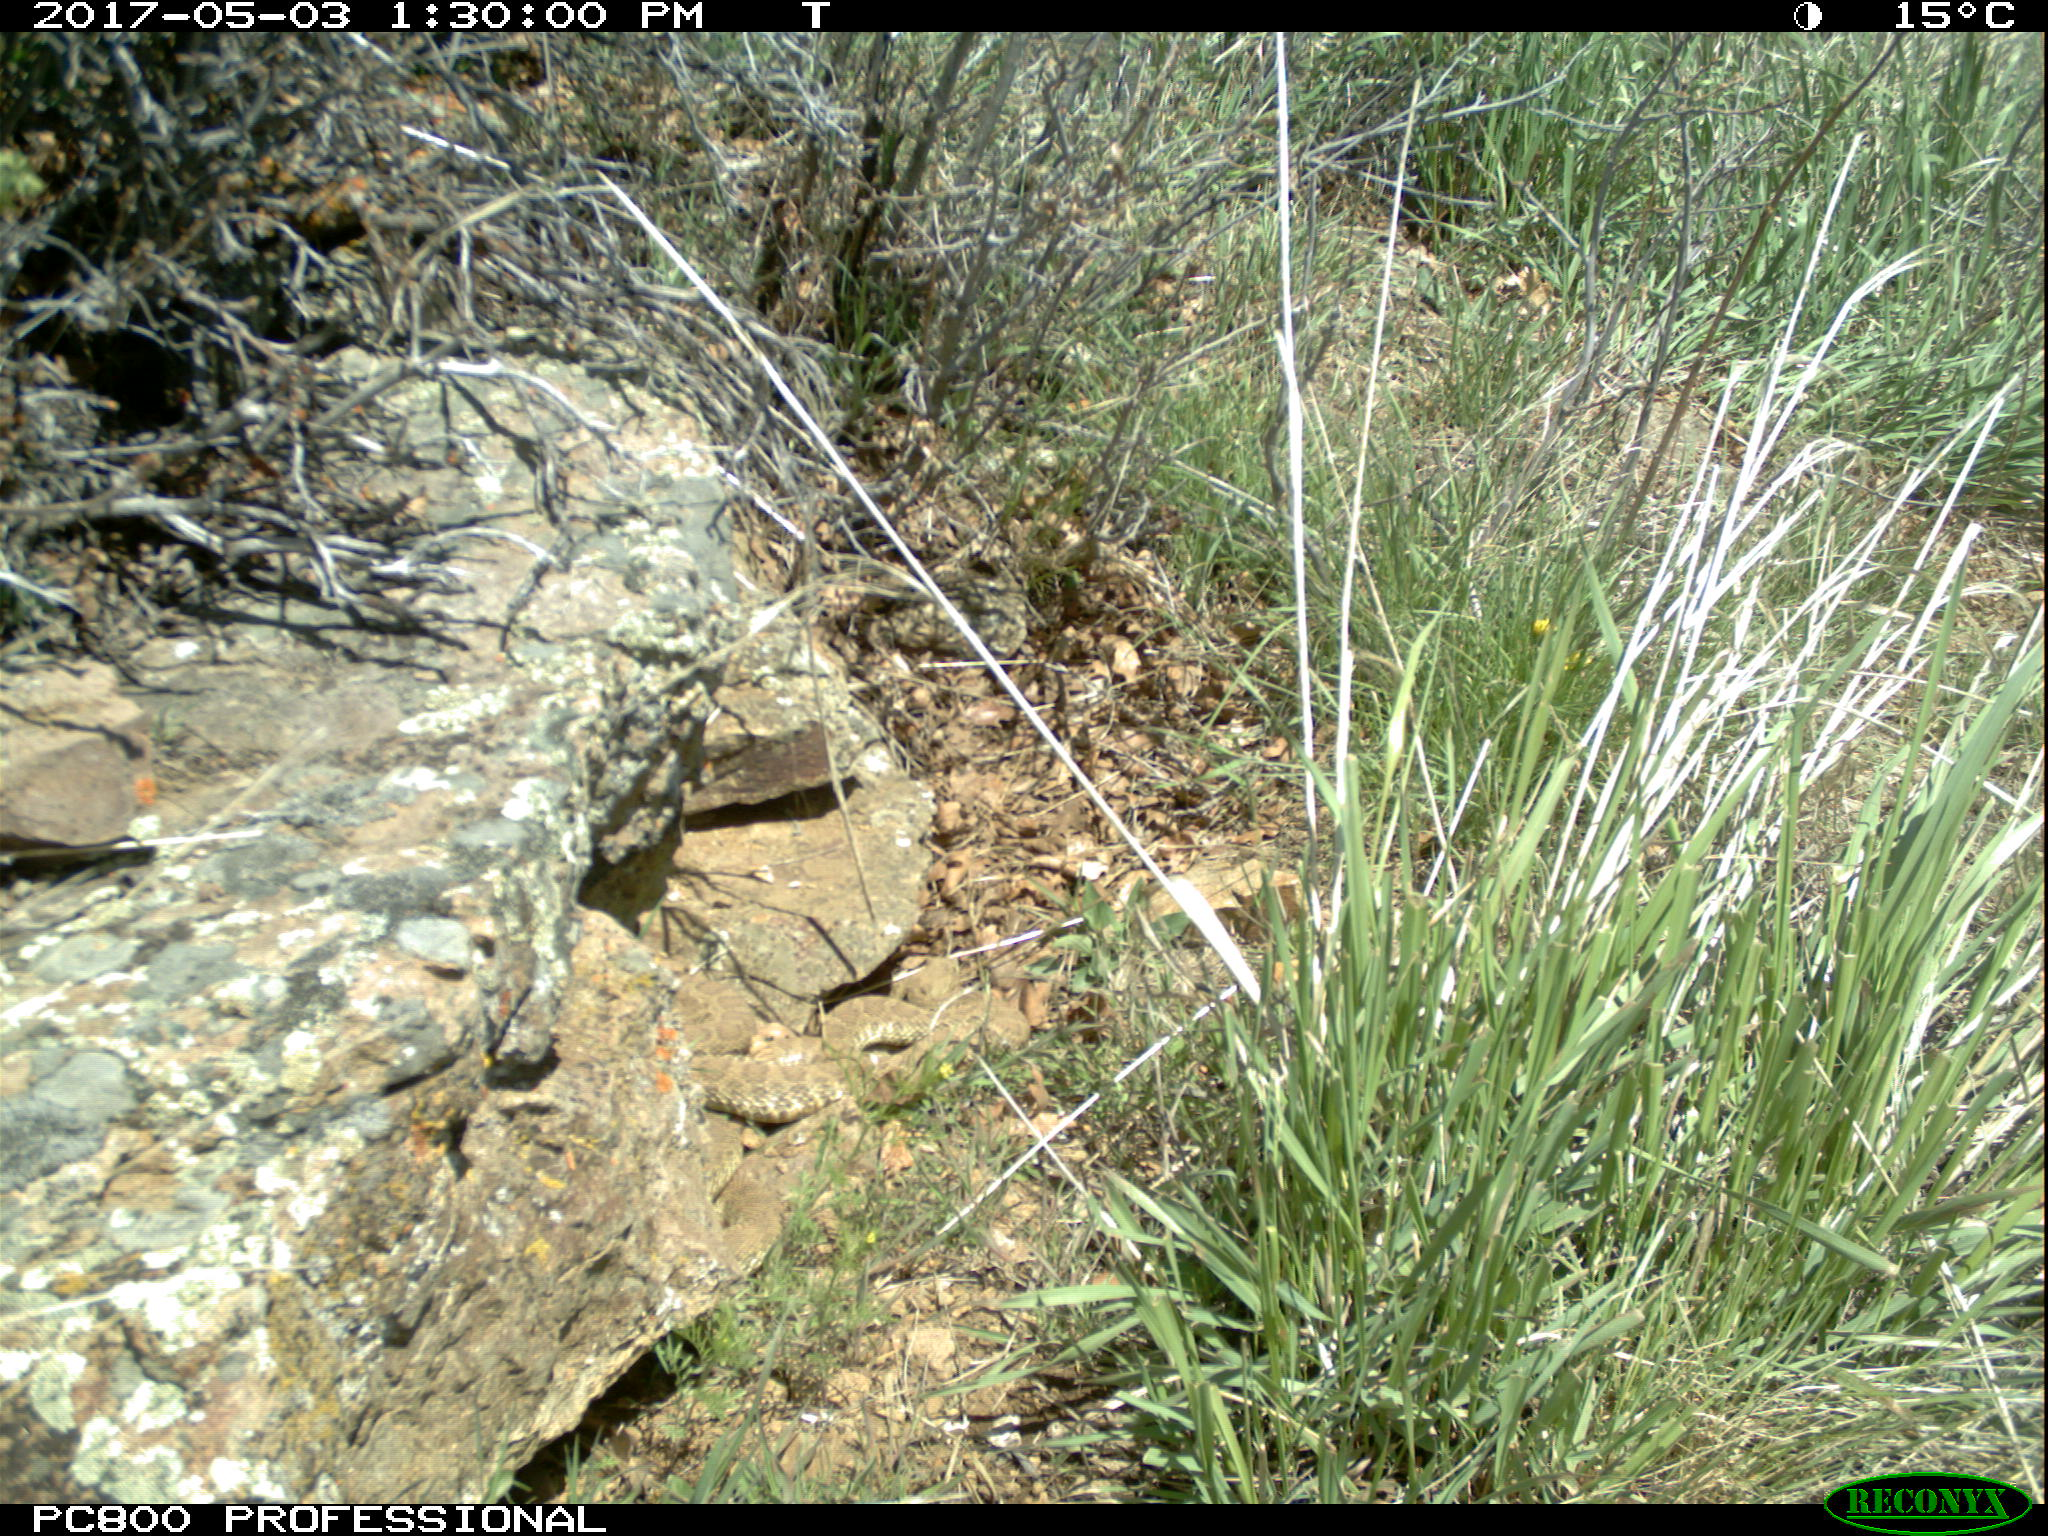snake: (676, 958, 1024, 1233)
